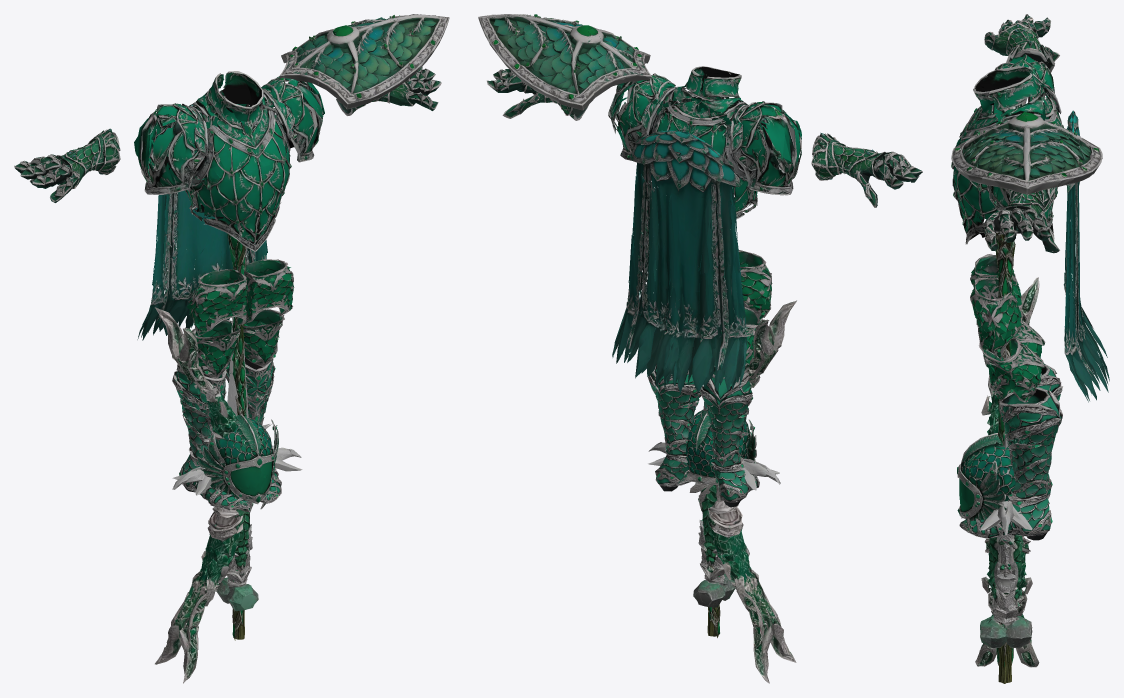
File: ai_emerald.glb
3 views of the same model, side by side, from view 1: azimuth 30°, elevation 25°; view 2: azimuth 150°, elevation 25°; view 3: azimuth 270°, elevation 25° (orthographic). The views are drawn at different scales.
Visible parts, largest first — view 1: chest, shield, legs, bow, cape, gloves, feet, helm, blade, staff; view 2: cape, chest, shield, feet, bow, gloves, blade, helm, legs; view 3: shield, feet, chest, legs, gloves, cape, helm, blade, bow, staff, spellblade.
Boxes of the visible parts, x1,y1,x2,y2 form: chest: [134, 71, 324, 251]; shield: [279, 14, 449, 109]; legs: [186, 259, 294, 378]; bow: [155, 307, 252, 683]; cape: [137, 104, 267, 340]; gloves: [14, 66, 441, 202]; feet: [172, 357, 281, 509]; helm: [196, 414, 278, 512]; blade: [172, 317, 301, 611]; staff: [216, 136, 264, 640]; cape: [612, 130, 748, 393]; chest: [608, 66, 801, 223]; shield: [478, 14, 652, 110]; feet: [648, 364, 759, 507]; bow: [684, 300, 796, 683]; gloves: [487, 69, 922, 207]; blade: [648, 402, 780, 607]; helm: [676, 409, 756, 485]; legs: [665, 250, 772, 372]; shield: [951, 112, 1102, 194]; feet: [959, 363, 1062, 540]; chest: [951, 54, 1063, 244]; legs: [970, 254, 1045, 402]; gloves: [984, 14, 1059, 253]; cape: [1063, 110, 1109, 402]; helm: [957, 433, 1035, 528]; blade: [980, 347, 1032, 648]; bow: [975, 277, 1039, 667]; staff: [995, 232, 1016, 683]; spellblade: [980, 350, 1032, 593].
Size of the model in its own units: 1.86 by 2.47 by 0.5461.
12 materials, 12 textured.
